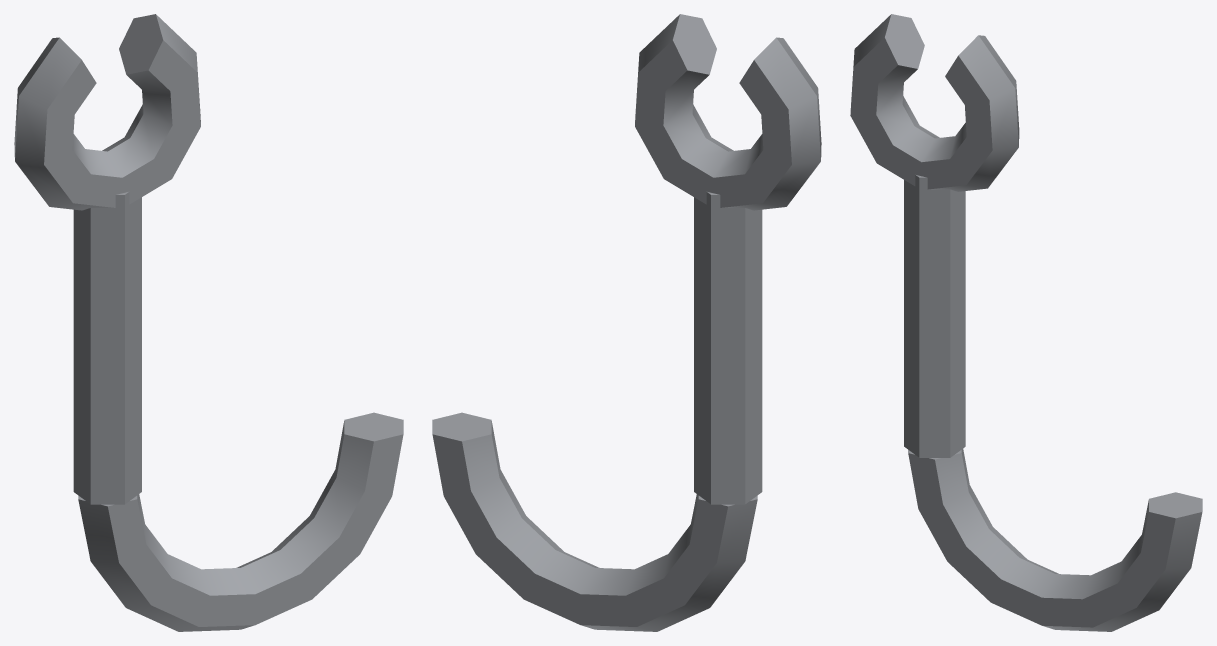
The model's file is SM_Correa_Gancho.fbx.
3 views of the same model, side by side, from view 1: azimuth 30°, elevation 25°; view 2: azimuth 150°, elevation 25°; view 3: azimuth 330°, elevation 25° (orthographic). The views are drawn at different scales.
Parts seen in each view (by area): view 1: SM_Correa_Gancho; view 2: SM_Correa_Gancho; view 3: SM_Correa_Gancho.
Part boxes in pixels (<box>): SM_Correa_Gancho: <box>14,14,403,631</box>; SM_Correa_Gancho: <box>432,14,821,631</box>; SM_Correa_Gancho: <box>850,14,1202,631</box>.
Size of the model in its own units: 0.0526 by 0.0823 by 0.008.
